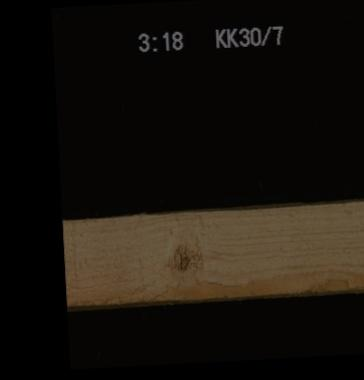sound_knot: (168, 237, 196, 274)
